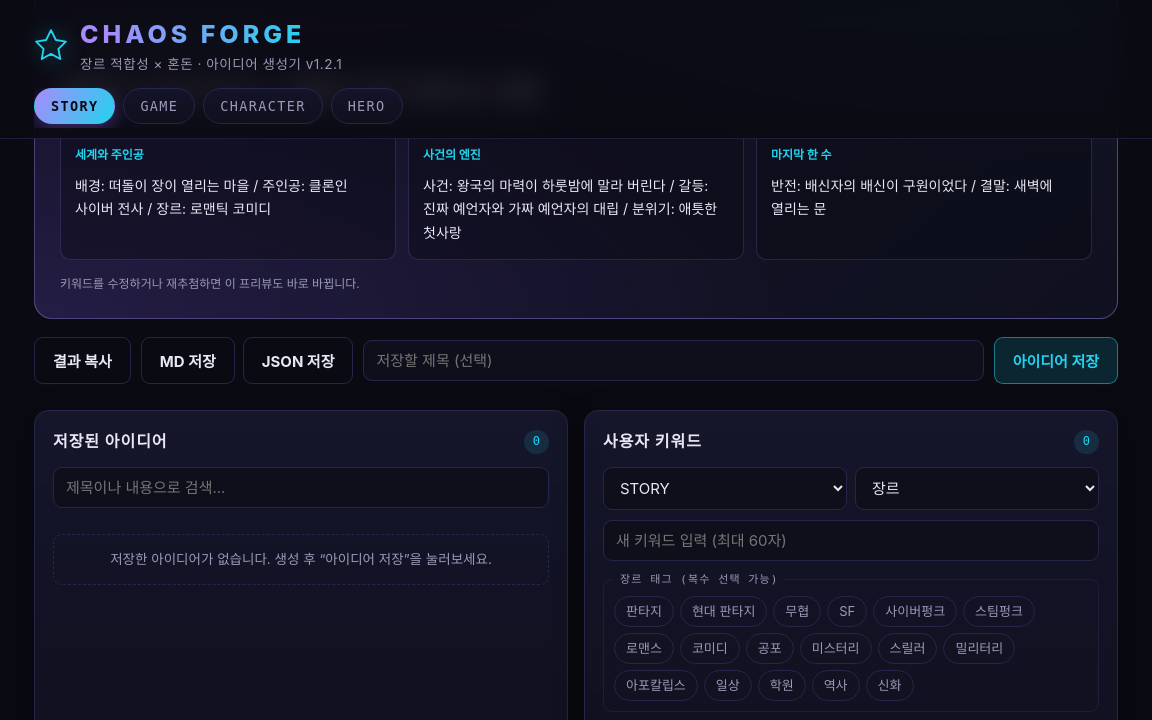
CHAOS FORGE UI › 아이디어를 저장하고 검색으로 찾을 수 있다
(page scrolled)
Type "내 테스트 이야기" into the field with id "ideaTitle" at (674, 361), box [364,340,984,381]
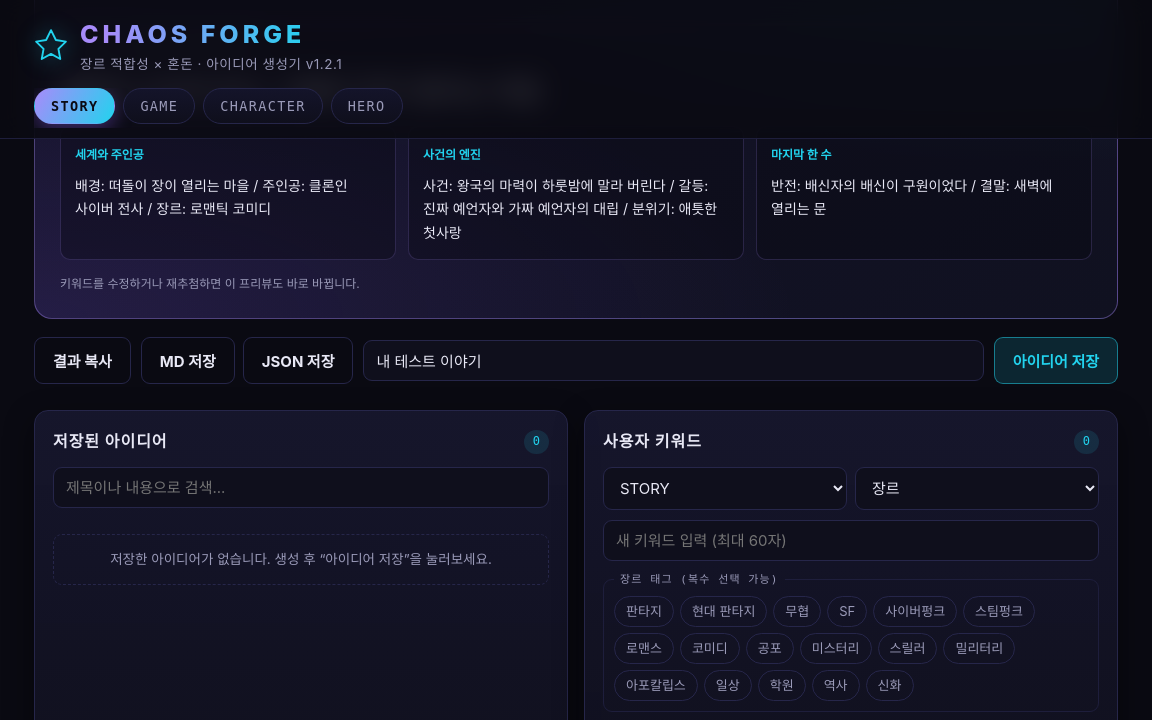
Click the button with id "saveBtn" at (1056, 361), box [994,337,1118,384]
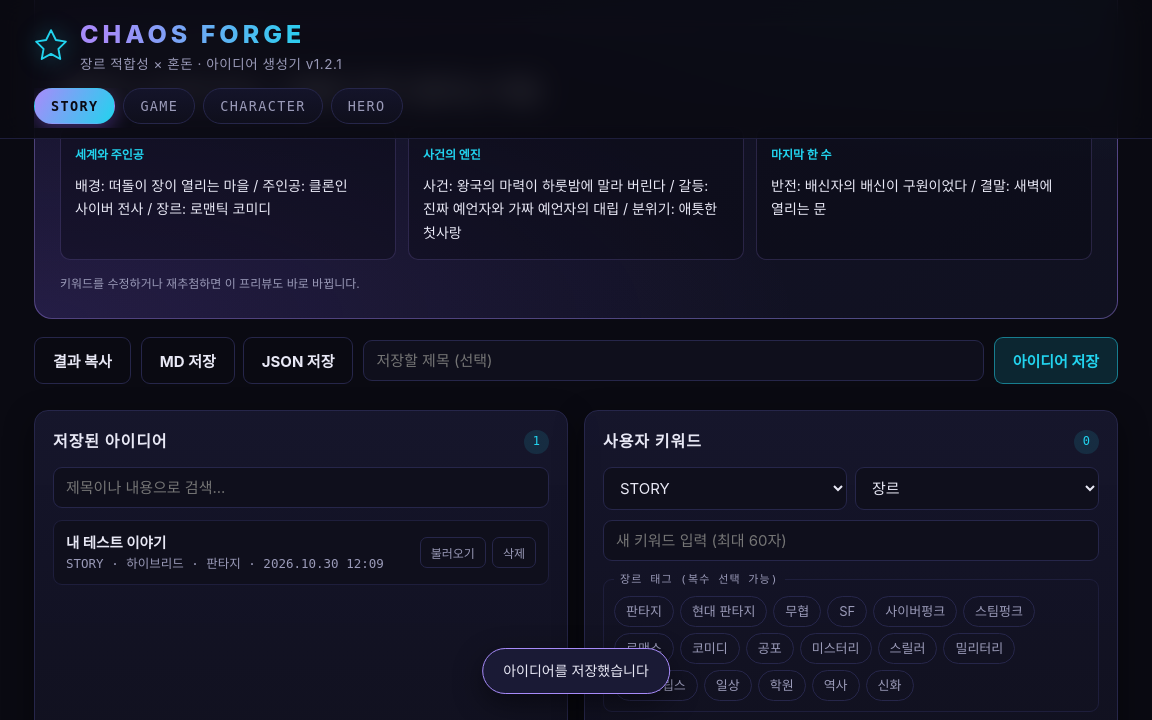
Check: the text with id "ideaCount" reads "1", box [533,434,540,448]
Check: the number of list items is 1, box [53,520,549,585]
Type "없는검색어" into the search field with id "ideaSearch" at (301, 487), box [53,467,549,508]
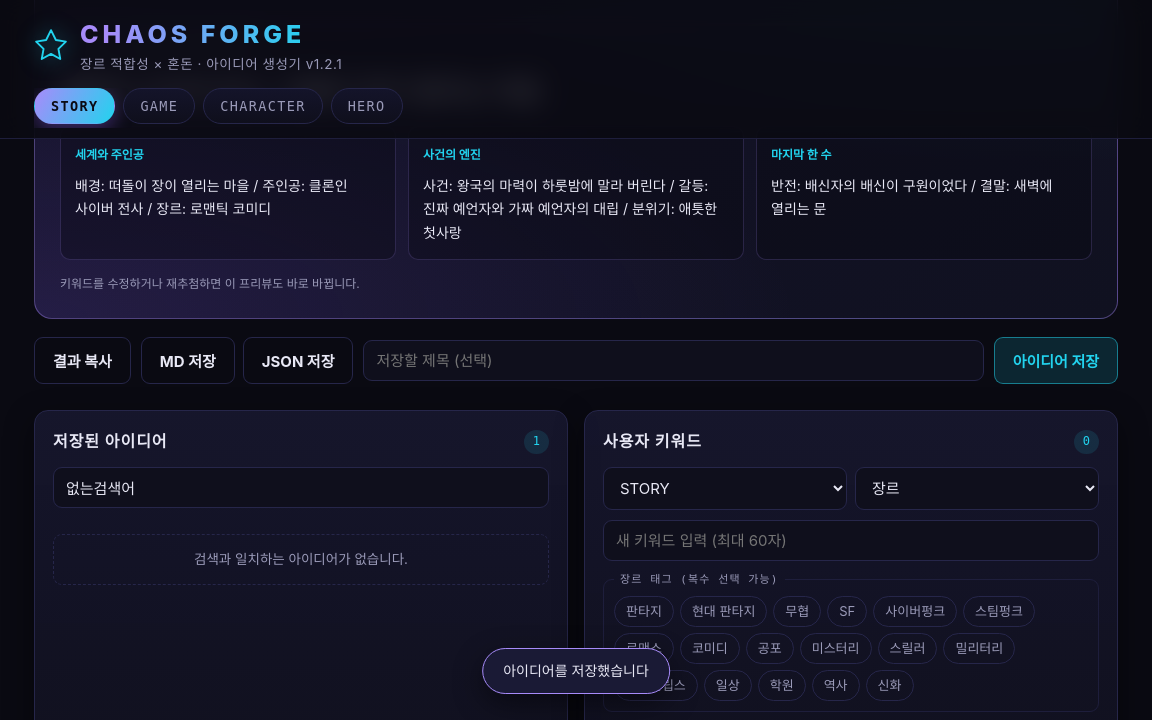
Check: no list items are shown
Check: the text with id "ideaEmpty" shows "검색", box [53,534,549,585]
Replace the text in the search field with id "ideaSearch" with "테스트" at (301, 487), box [53,467,549,508]
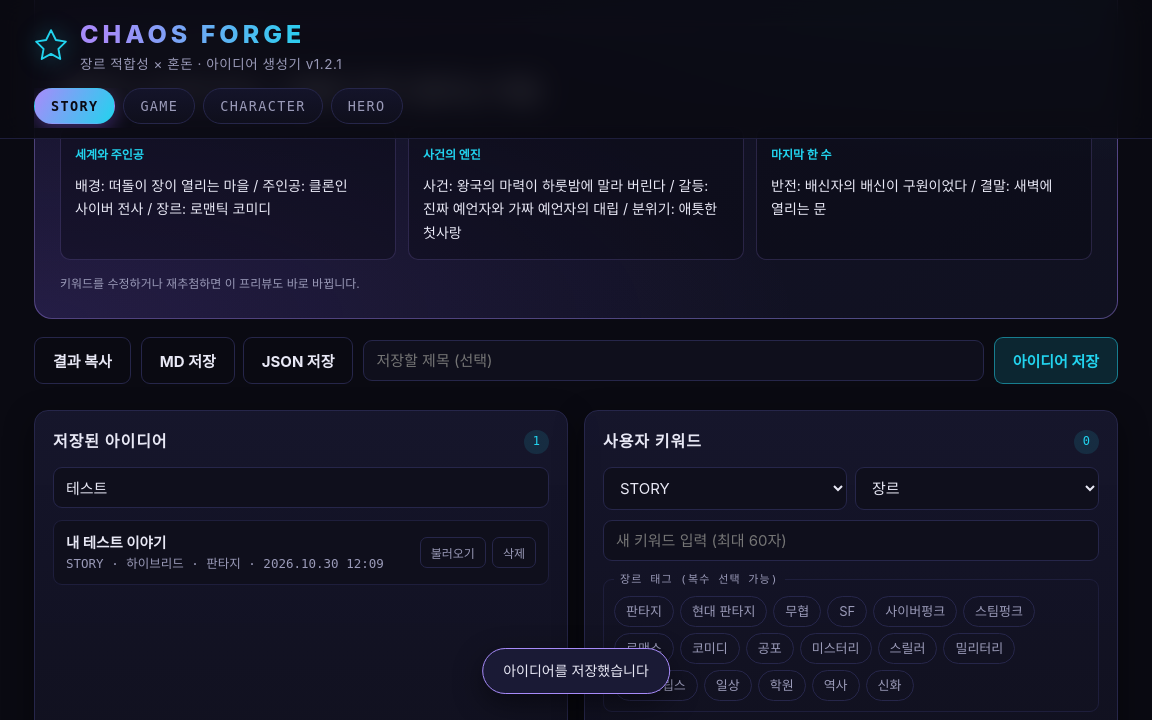
Check: the number of list items is 1, box [53,520,549,585]
